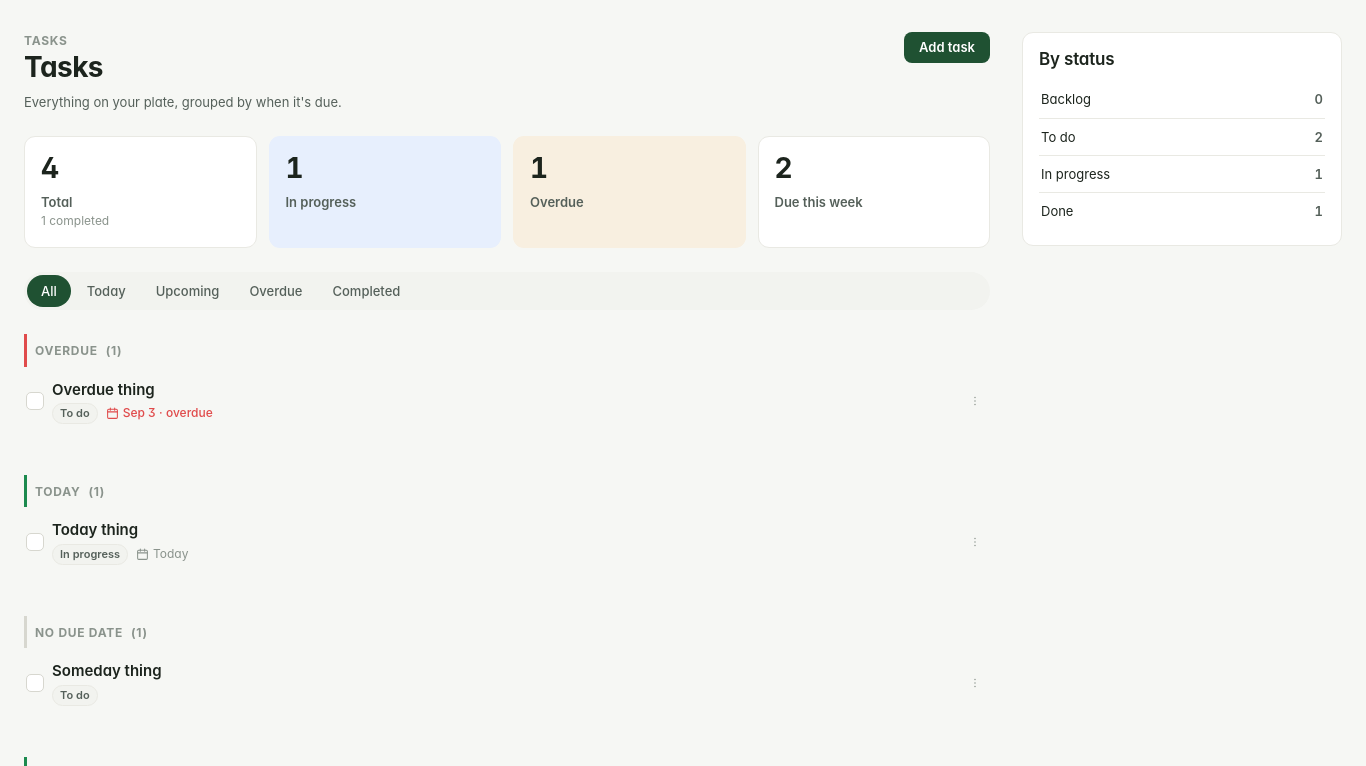
Test: TasksScreen › opens the add-task dialog
The width and height of the screenshot is (1366, 766).
Step 1. Click the button "Add task" → [947, 48], box [904,32,990,63]
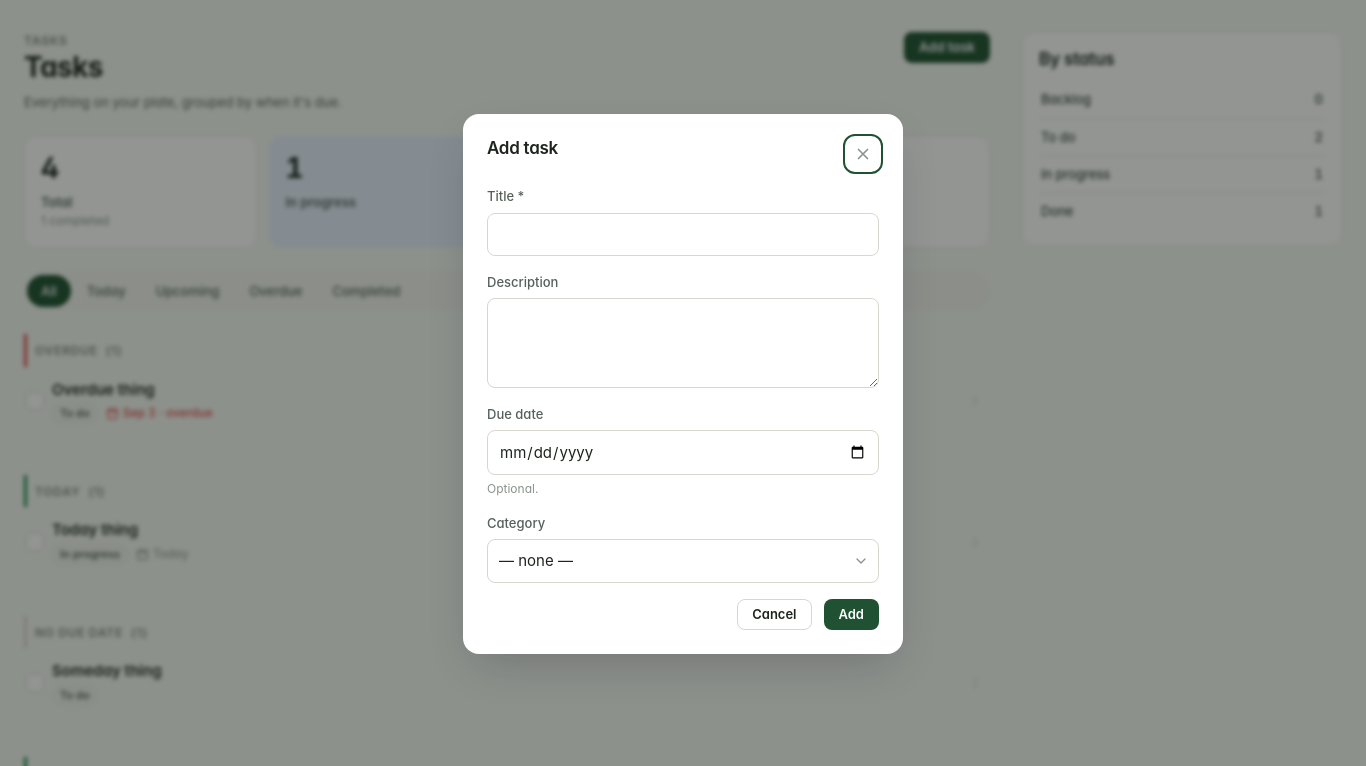
Now the dialog is shown, box [463,114,903,654]
